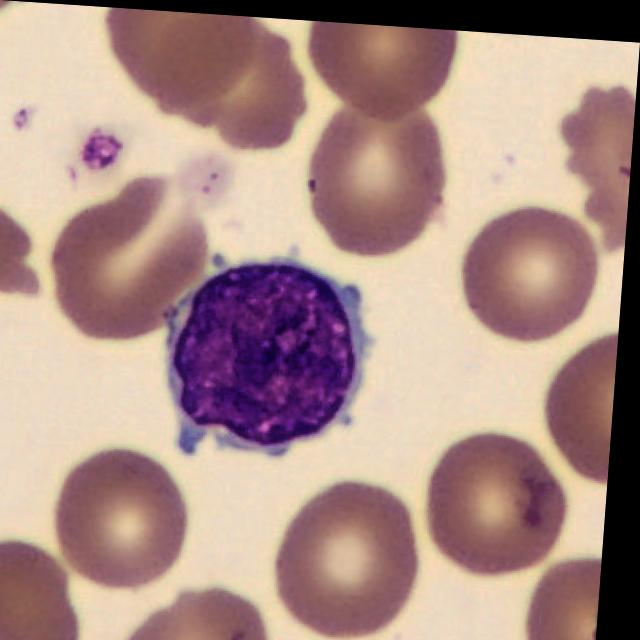Linfocito: (168, 256, 371, 447)
